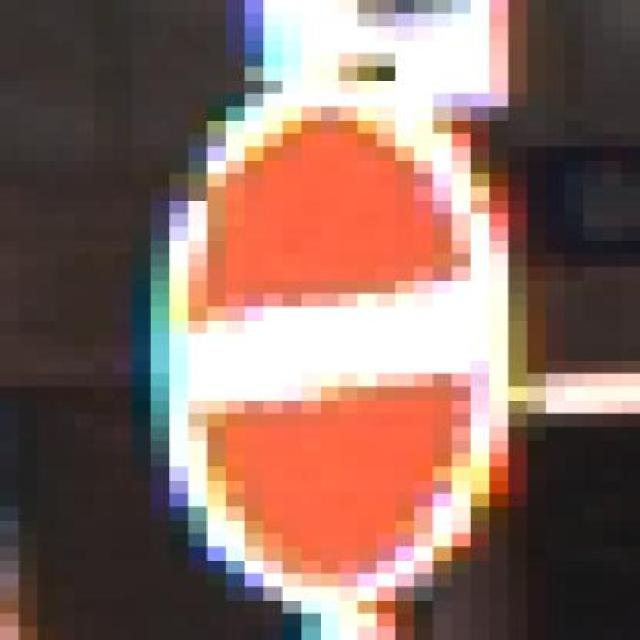No Entry: (132, 80, 566, 600)
